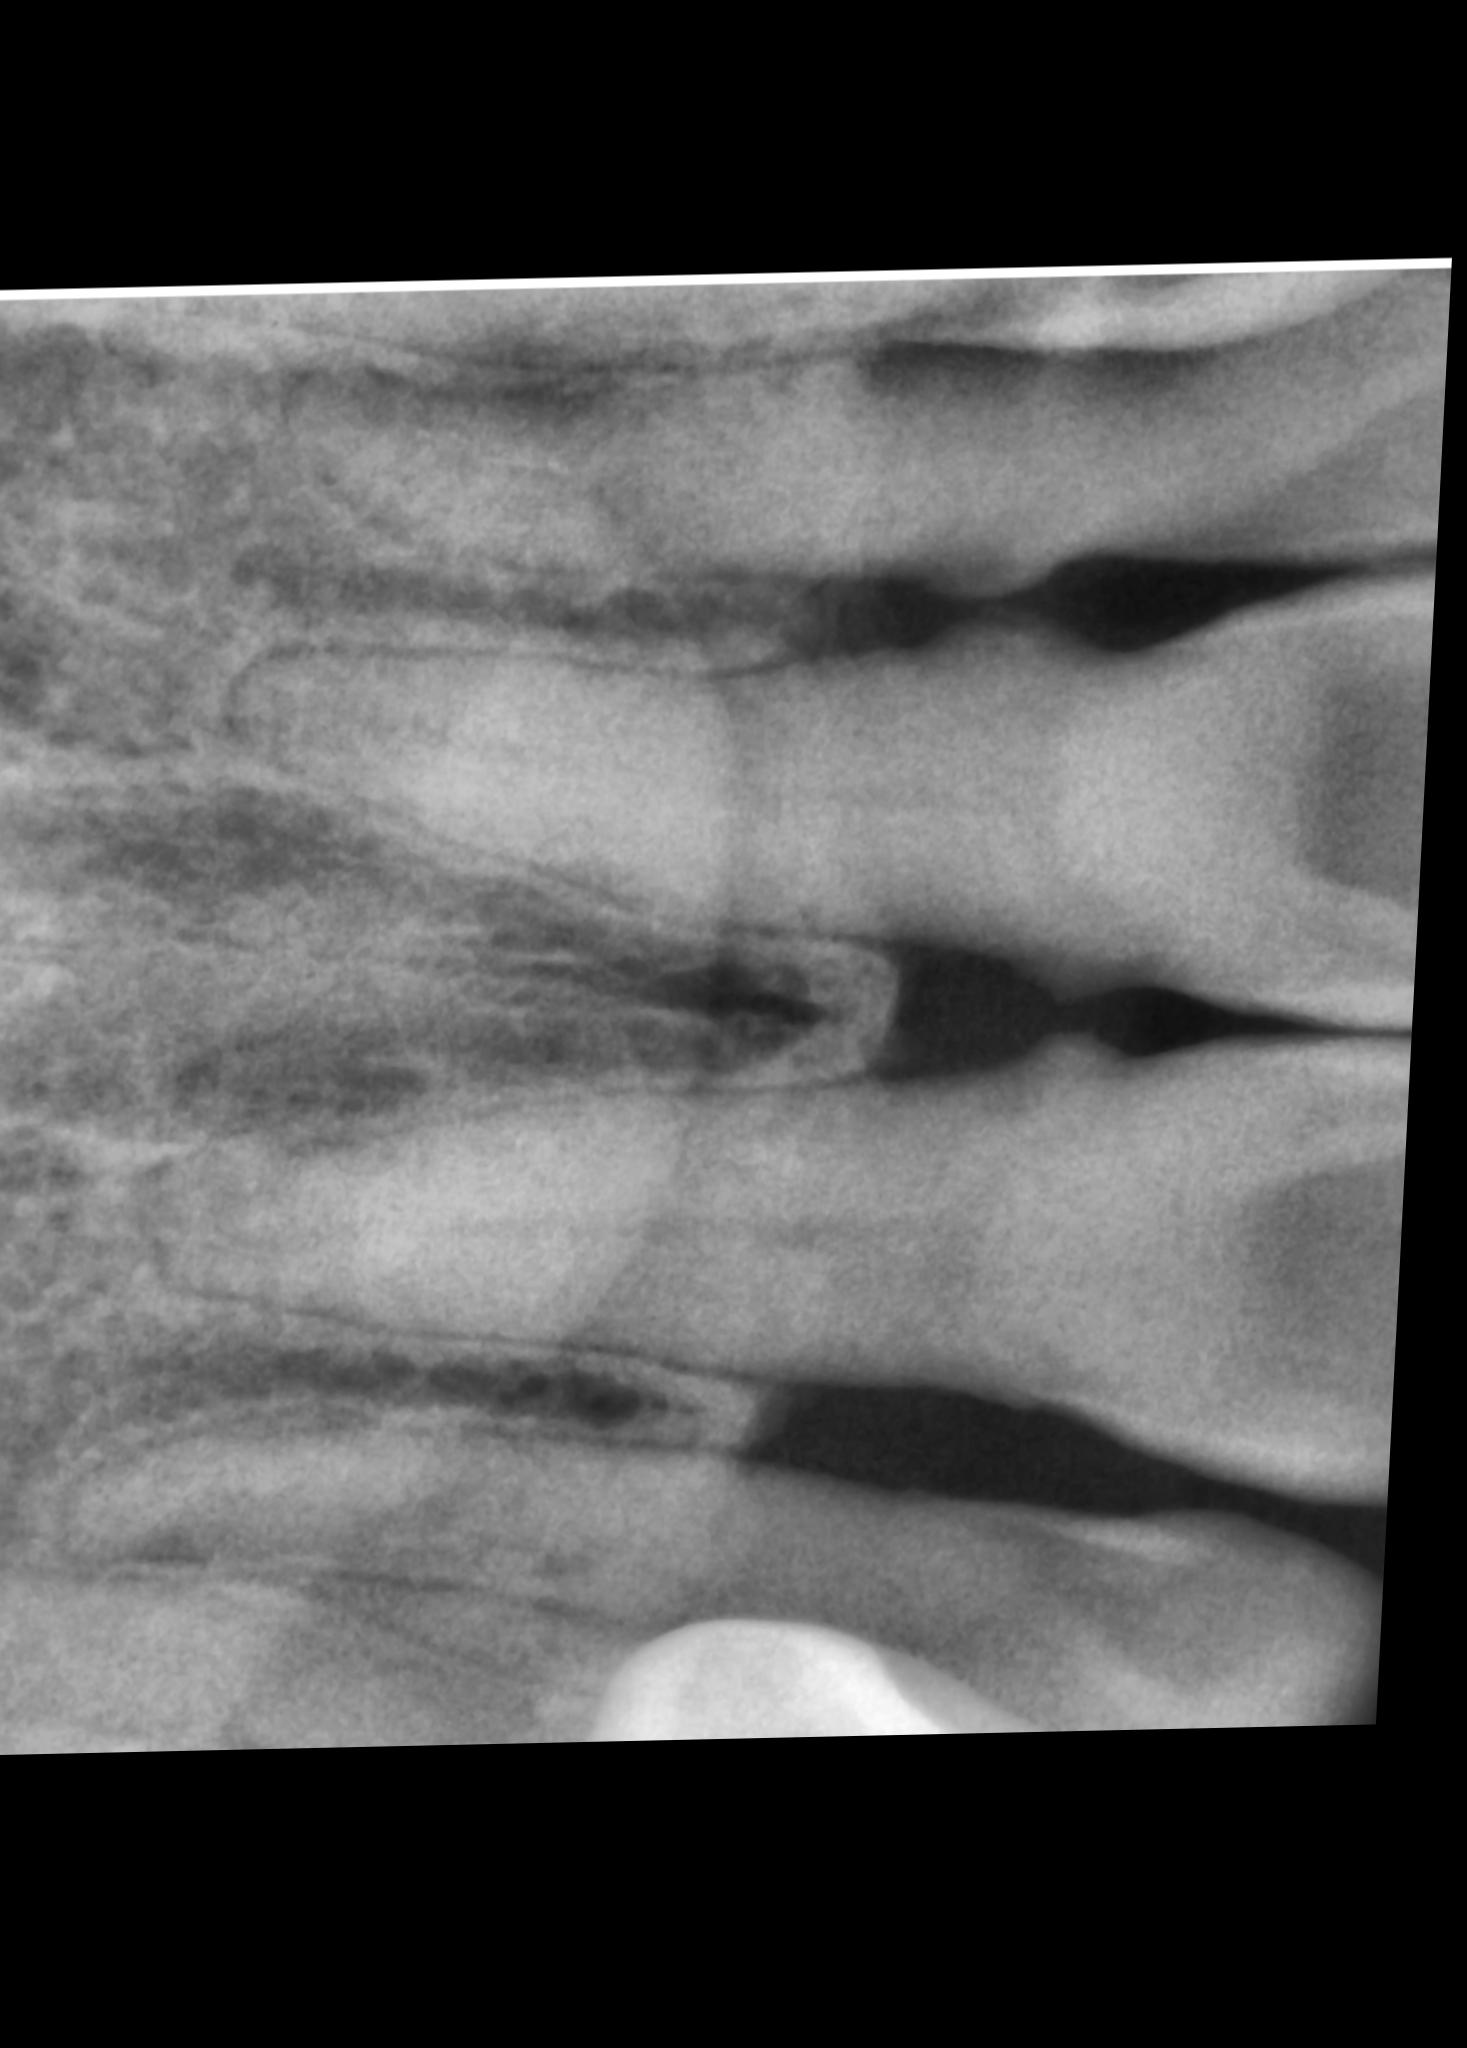Individual Tooth: (183, 1045, 1423, 1507), (243, 579, 1442, 1035), (62, 1434, 1399, 1742), (306, 267, 1456, 572), (113, 283, 1392, 367)
